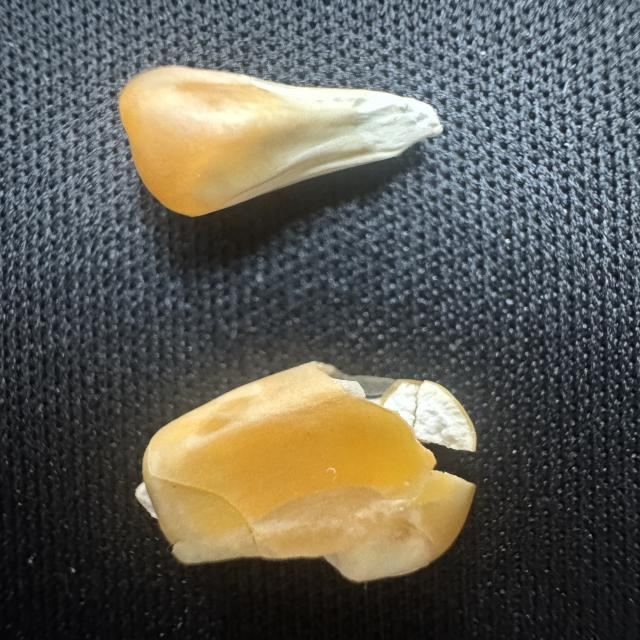Bad-Seed: (126, 350, 488, 590), (103, 56, 456, 228)
